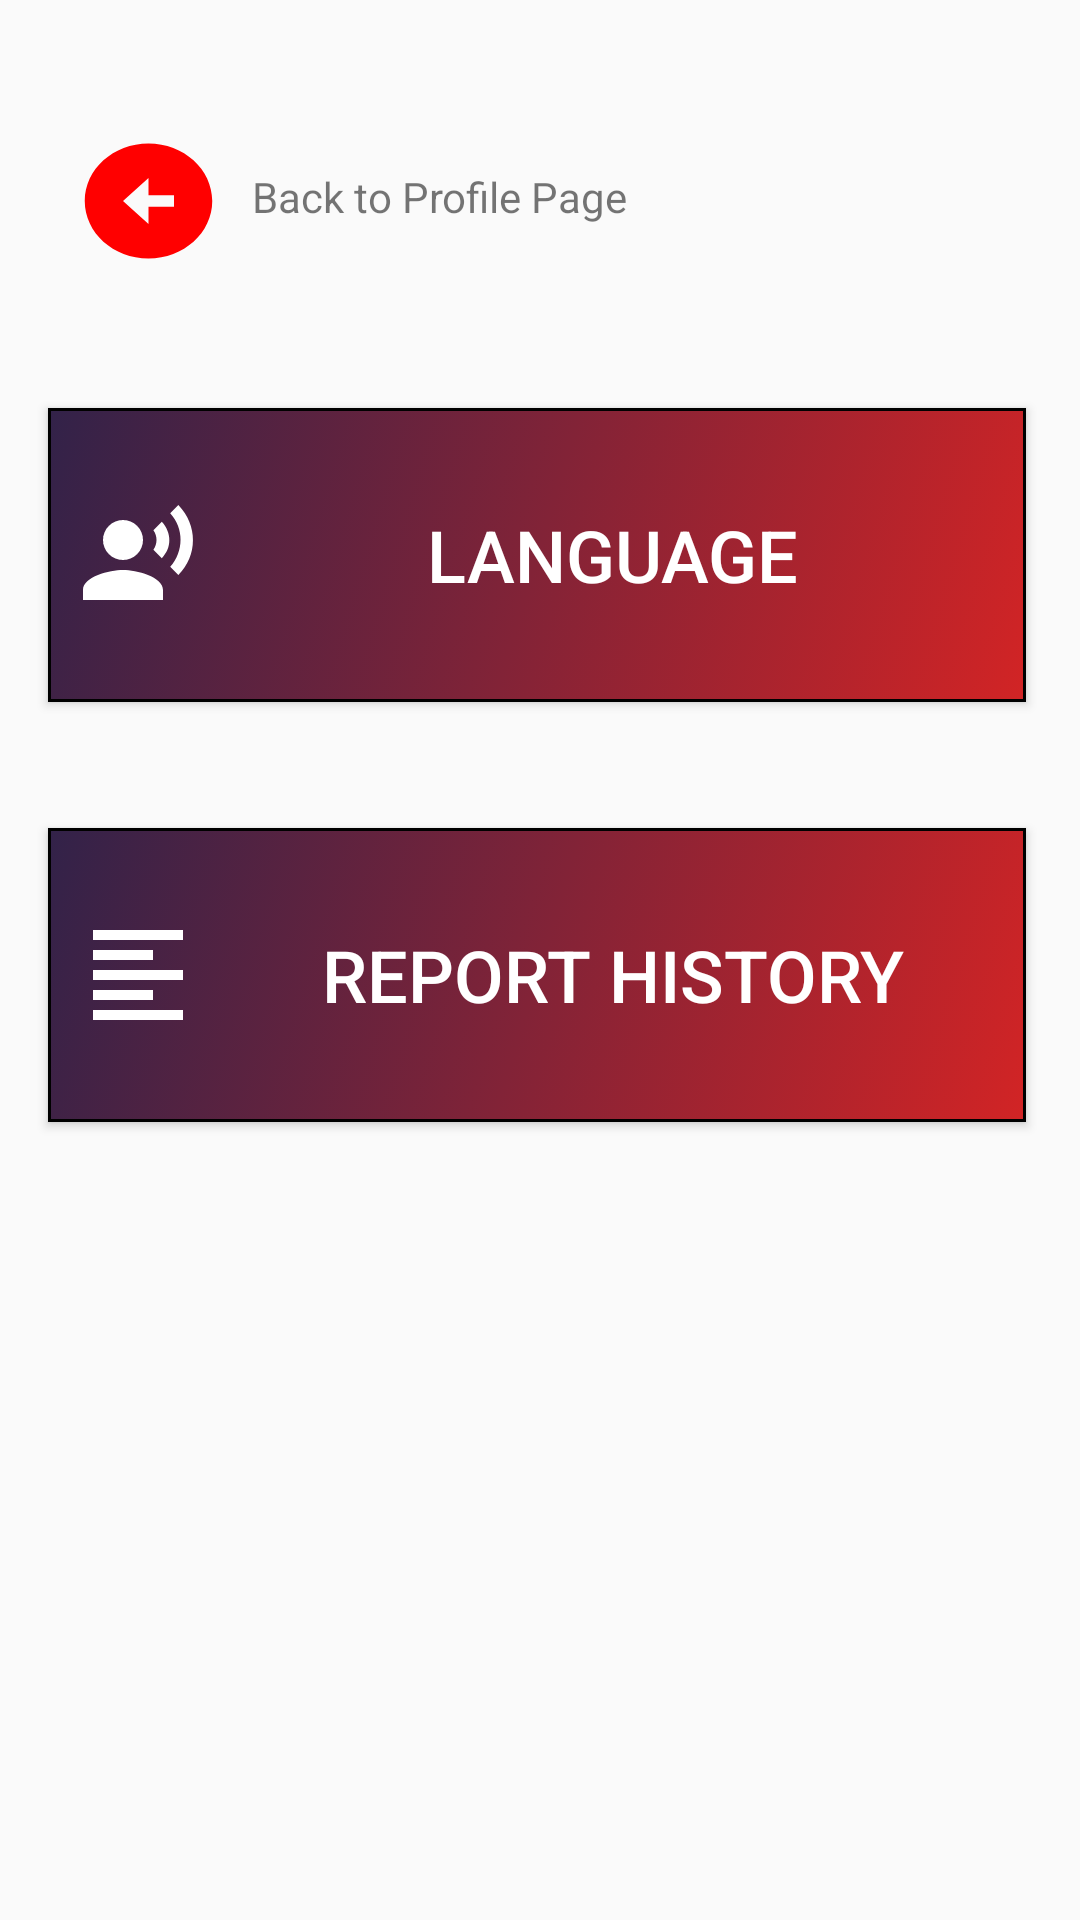

Icons on this 1080x1920 Android screen, each with its box as (x1, y1, x2, y2):
arrow circle left: (84, 143, 213, 259)
